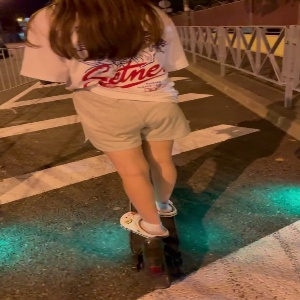human on a scooter: (20, 1, 192, 289)
